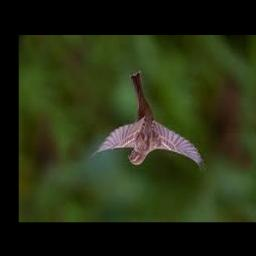Sparrow: (89, 71, 206, 172)
